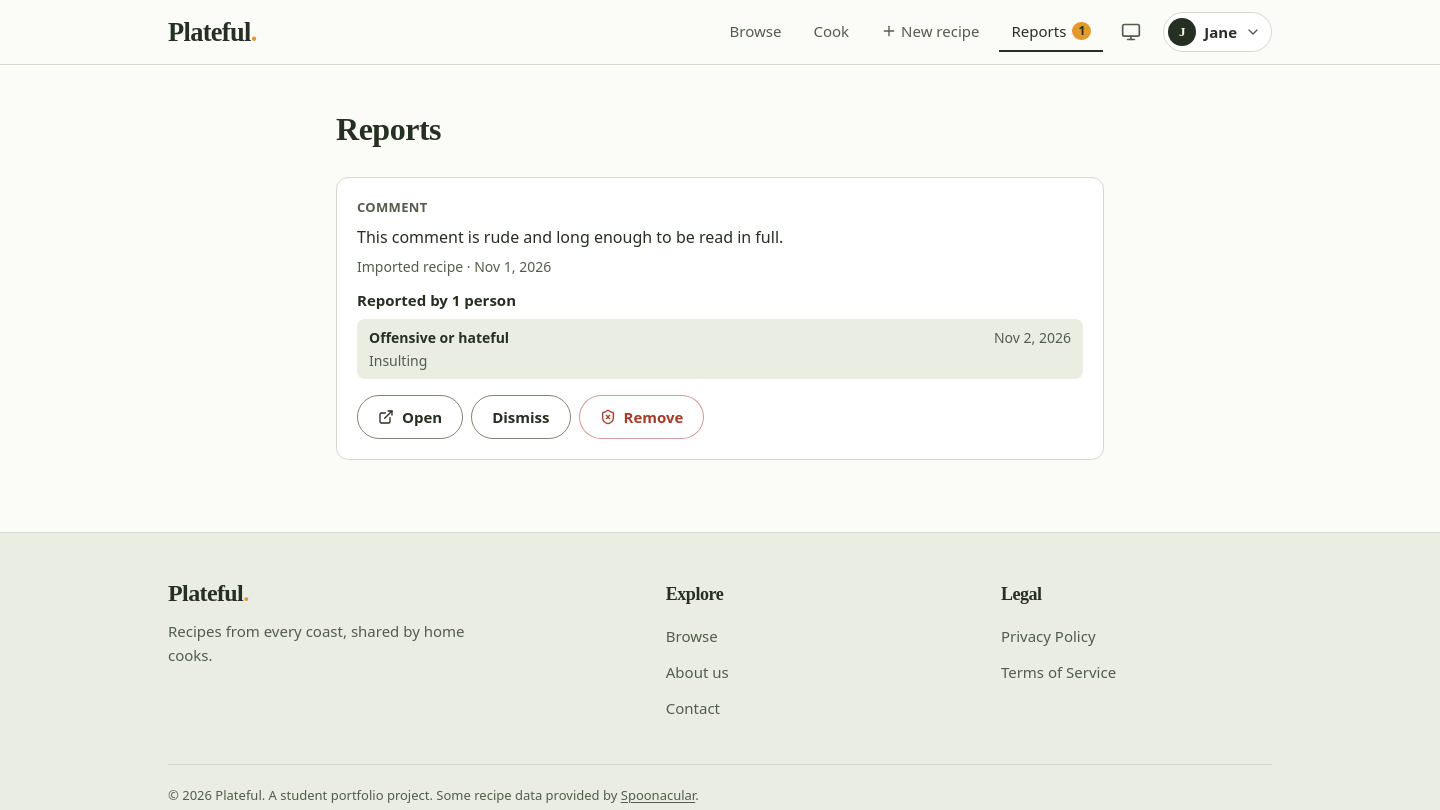
Test case: a 404 on dismiss says it was already handled and refetches
Click the button "Dismiss": point(521, 417) [471,395,571,439]
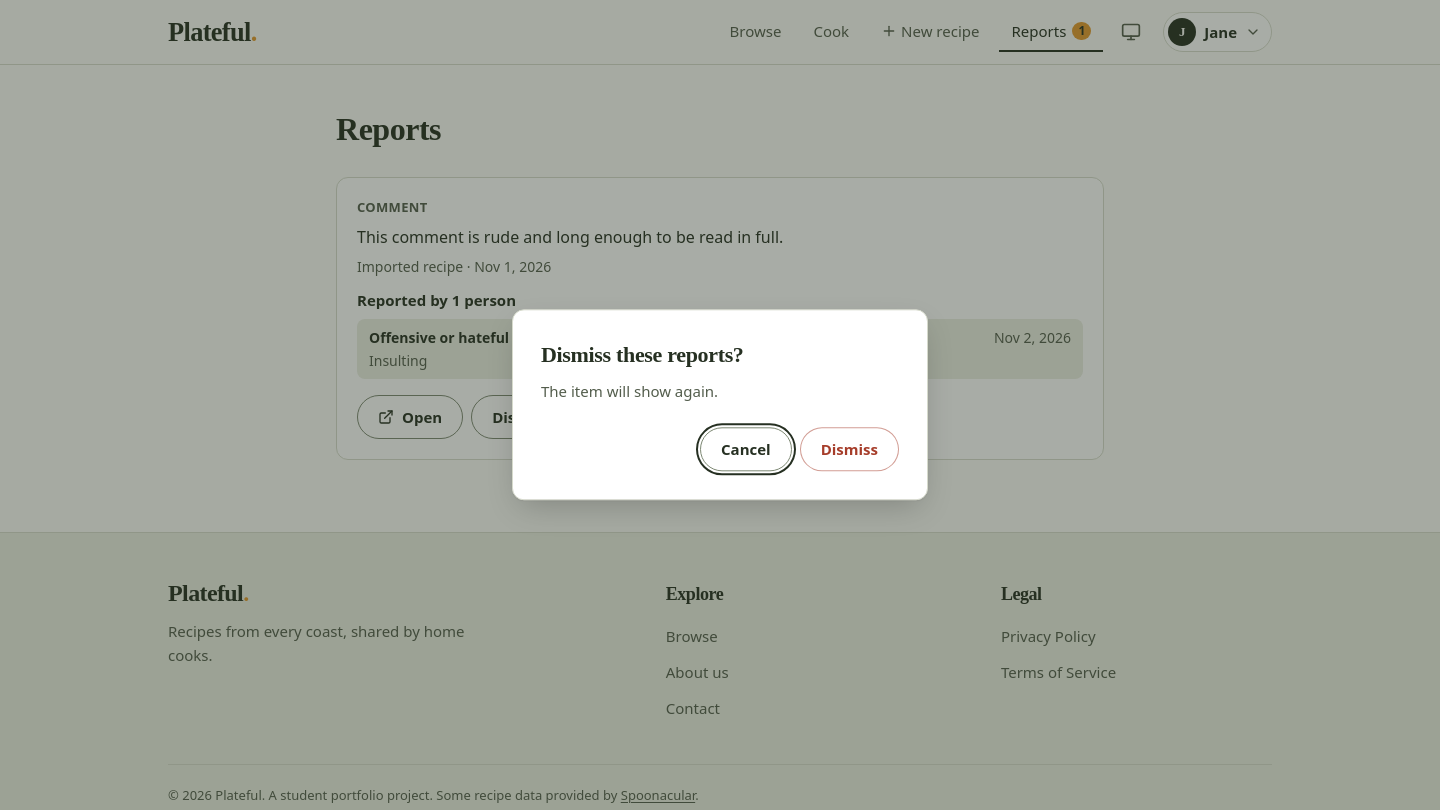
Click the button "Dismiss": point(849, 450) [800,428,899,472]
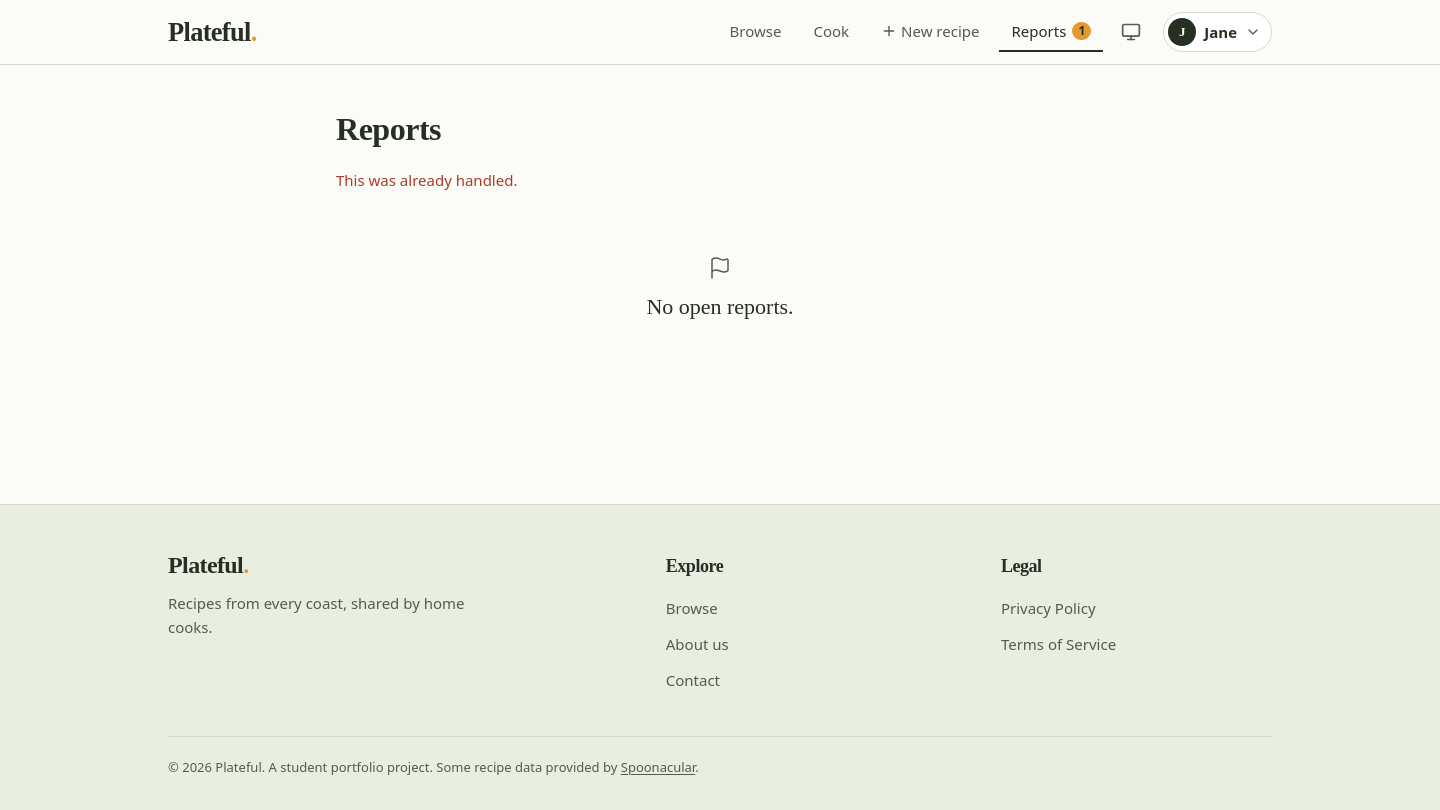
expect the text "This was already handled." is shown: met, box [336,170,518,190]
expect the text "This comment is rude and long enough to be read in full." is gone: met
